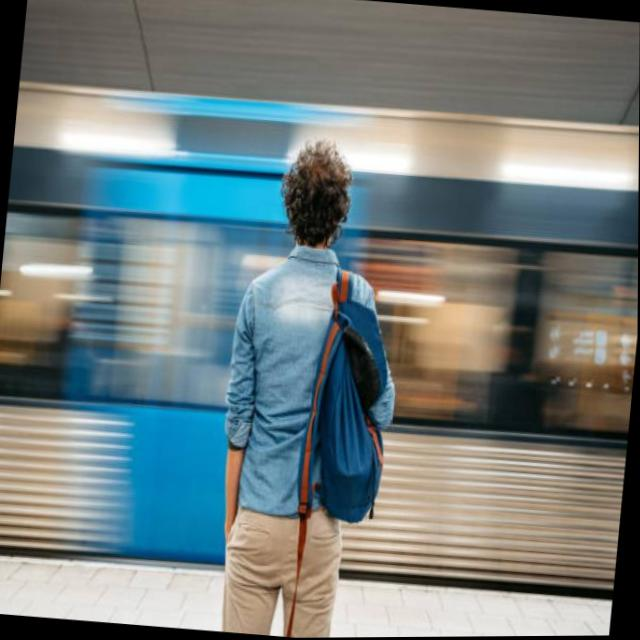no helmet: (253, 124, 376, 303)
